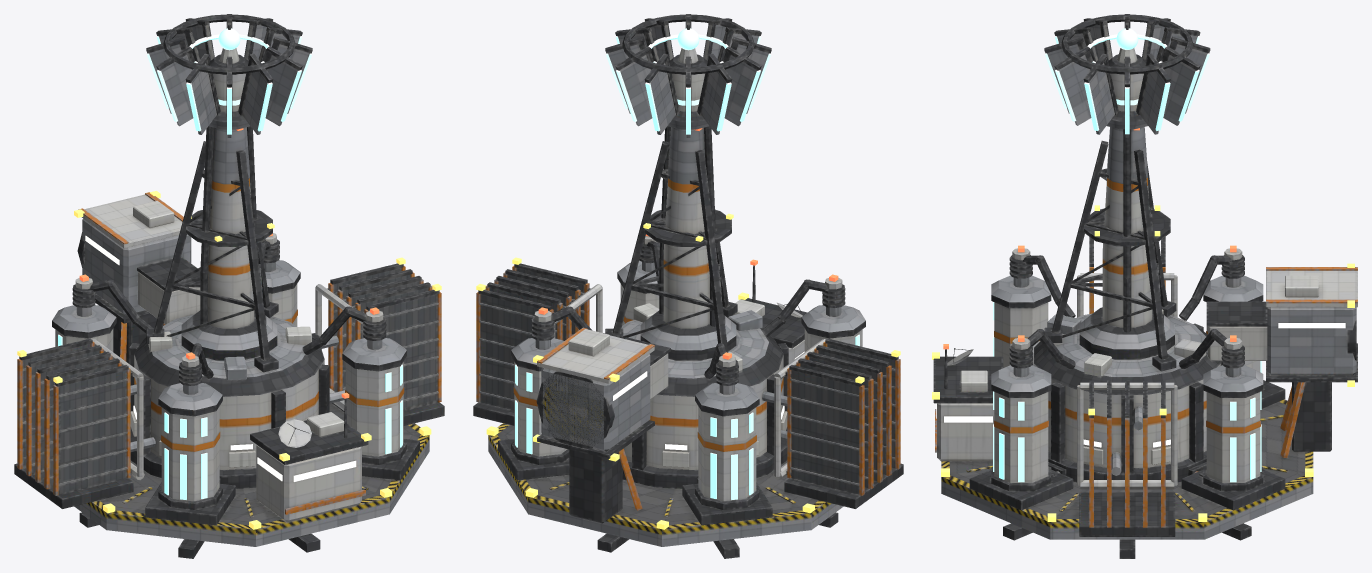
The model's file is shield_generator.glb.
The picture shows the model from 3 angles, left to right: view 1: azimuth 30°, elevation 25°; view 2: azimuth 150°, elevation 25°; view 3: azimuth 270°, elevation 25°; orthographic projection.
Parts seen in each view (by area): view 1: shield_base, shield_emitter_glow, shield_capacitors; view 2: shield_base, shield_emitter_glow, shield_capacitors; view 3: shield_base, shield_emitter_glow, shield_capacitors.
Part boxes in pixels (x1,y1,x2,y2): shield_base: [14, 14, 444, 558]; shield_emitter_glow: [147, 28, 311, 134]; shield_capacitors: [58, 334, 402, 499]; shield_base: [473, 14, 903, 558]; shield_emitter_glow: [606, 28, 770, 134]; shield_capacitors: [515, 334, 859, 499]; shield_base: [932, 14, 1357, 558]; shield_emitter_glow: [1045, 28, 1209, 134]; shield_capacitors: [993, 302, 1261, 482].
Size of the model in its own units: 39.7 by 45.65 by 38.05.
6 materials, 1 textured.
